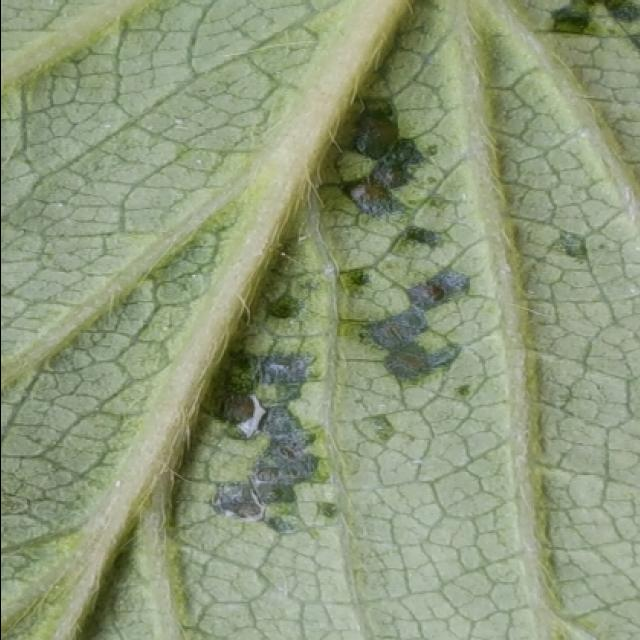Angular Leafspot: (180, 0, 640, 567)
